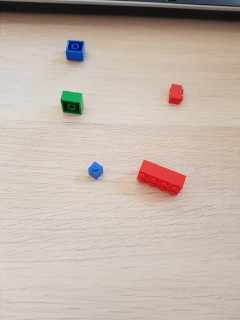1x1 blue: (88, 162, 104, 180)
1x2 red: (168, 83, 185, 106)
2x2 blue: (65, 40, 85, 62)
2x2 green: (60, 90, 84, 116)
2x4 red: (137, 160, 186, 196)
